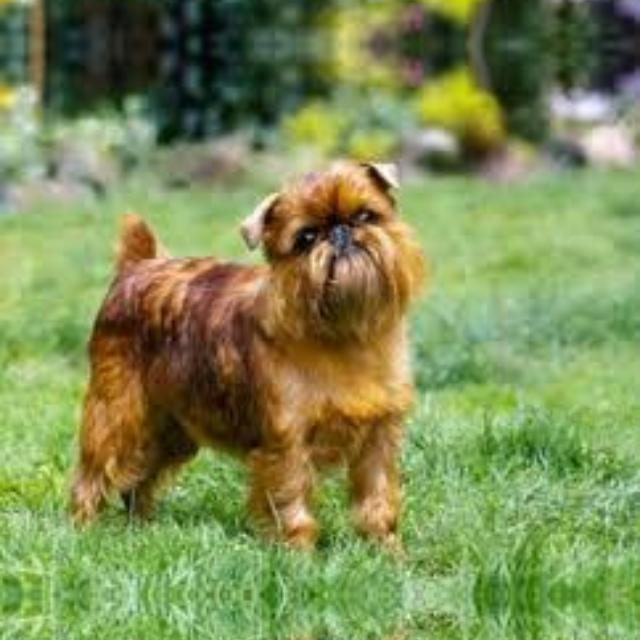dog: (70, 150, 436, 556), (70, 632, 435, 640)
